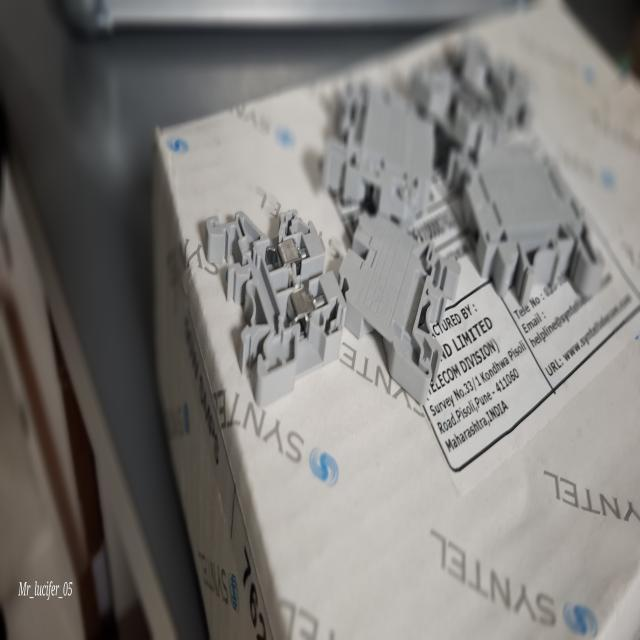Inverted: (338, 198, 458, 418)
Pass: (192, 162, 356, 424)
